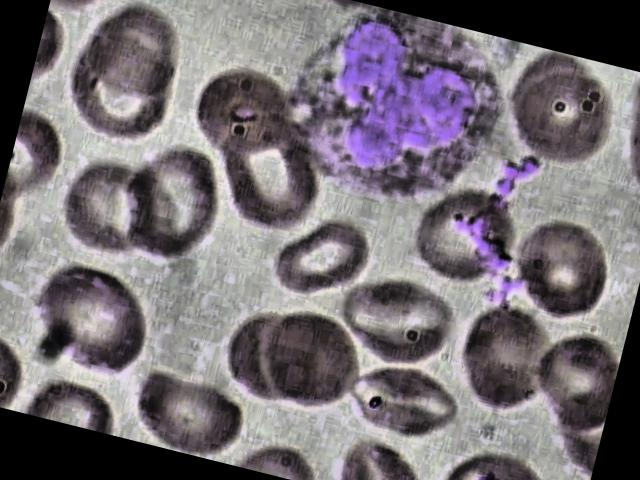RBC: (11, 250, 163, 386), (108, 133, 237, 273), (321, 264, 465, 383), (48, 148, 174, 272), (251, 298, 374, 421), (504, 210, 624, 334), (443, 300, 563, 424), (500, 52, 620, 176), (184, 52, 304, 175), (404, 178, 524, 300), (116, 364, 256, 466), (265, 200, 381, 318), (339, 356, 472, 454), (520, 324, 623, 440), (427, 435, 559, 480)
WBC: (254, 0, 522, 232)
